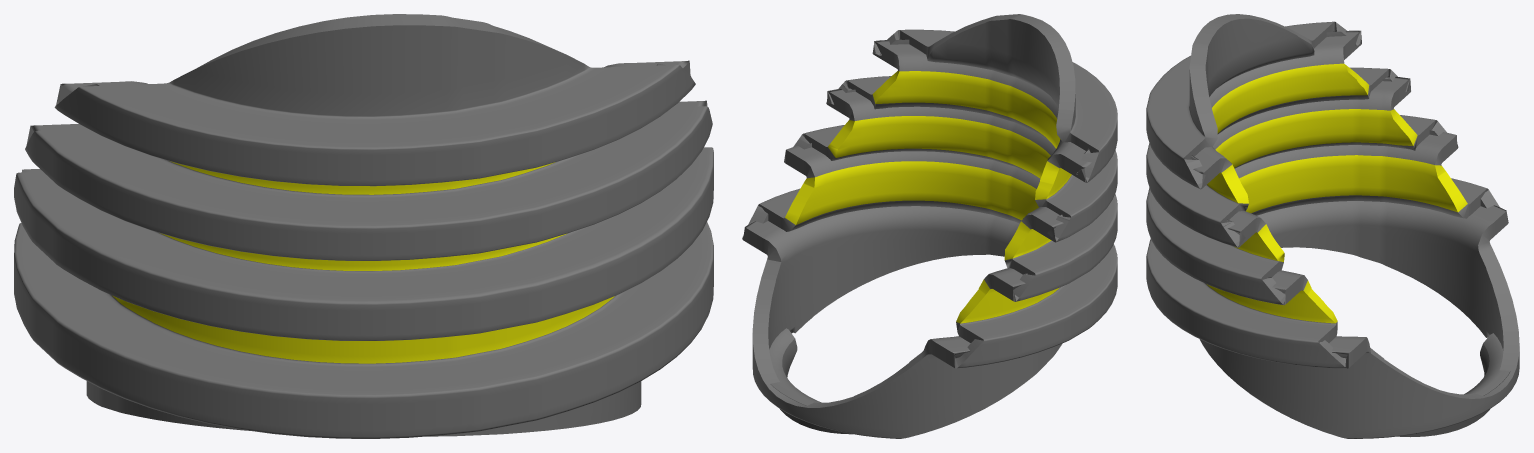
Rendered from DebrisSmallMetalBroken05.fbx.
3 views of the same model, side by side, from view 1: azimuth 30°, elevation 25°; view 2: azimuth 150°, elevation 25°; view 3: azimuth 270°, elevation 25° (orthographic). The views are drawn at different scales.
Parts seen in each view (by area): view 1: polySurface170; view 2: polySurface170; view 3: polySurface170.
Boxes of the visible parts, left/top/right/bottom form: polySurface170: left=14, top=14, right=713, bottom=438; polySurface170: left=742, top=14, right=1117, bottom=438; polySurface170: left=1146, top=14, right=1519, bottom=438.
Bounding box in the file's own units: 26.14 × 23.11 × 23.47.
